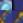mirror: (0, 0, 12, 10), (17, 0, 23, 10)
